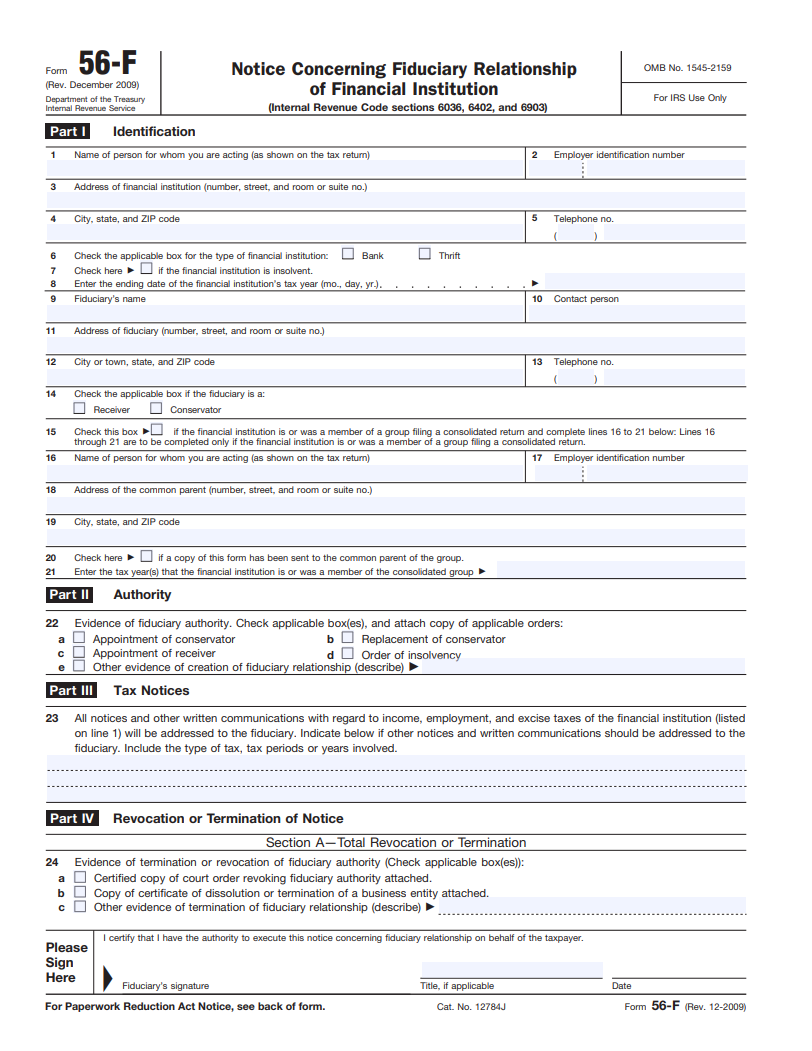checkbox: (337, 643, 357, 663), (68, 627, 88, 647), (69, 642, 89, 662), (69, 655, 89, 675), (70, 866, 90, 886), (71, 882, 91, 902), (71, 896, 91, 916), (339, 244, 357, 264), (416, 243, 434, 263), (138, 257, 156, 277), (70, 398, 88, 418), (146, 398, 164, 418), (148, 419, 166, 439), (137, 546, 155, 566), (339, 626, 357, 646)
textbox: (43, 478, 755, 521), (43, 507, 755, 550), (39, 318, 749, 359), (40, 176, 751, 215), (40, 206, 532, 247), (40, 349, 529, 390), (39, 446, 529, 486), (42, 286, 530, 325), (43, 144, 528, 182), (521, 207, 751, 250), (519, 348, 749, 391), (522, 143, 755, 184), (521, 445, 752, 486)
textline: (111, 953, 415, 999), (45, 757, 748, 774), (45, 773, 748, 790), (44, 792, 747, 809), (494, 557, 749, 582), (431, 899, 747, 917), (420, 661, 751, 678), (418, 963, 602, 982), (609, 964, 749, 982)
